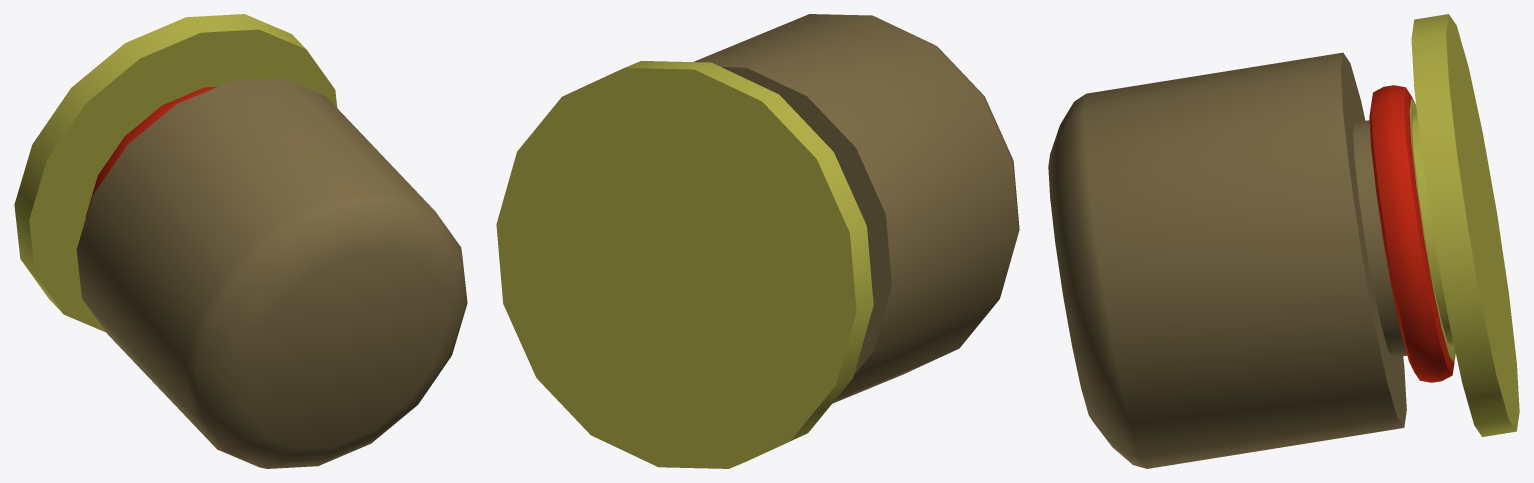
Rendered from SM_Transistor.fbx.
3 renders of one model, left to right at view 1: azimuth 30°, elevation 25°; view 2: azimuth 150°, elevation 25°; view 3: azimuth 270°, elevation 25°, orthographic. The views are drawn at different scales.
Visible parts, largest first — view 1: Transistor; view 2: Transistor; view 3: Transistor.
Part boxes in pixels (x1,y1,x2,y2): Transistor: [14, 14, 467, 468]; Transistor: [496, 14, 1019, 468]; Transistor: [1048, 14, 1519, 468].
Size of the model in its own units: 0.2058 by 0.2238 by 0.2291.
